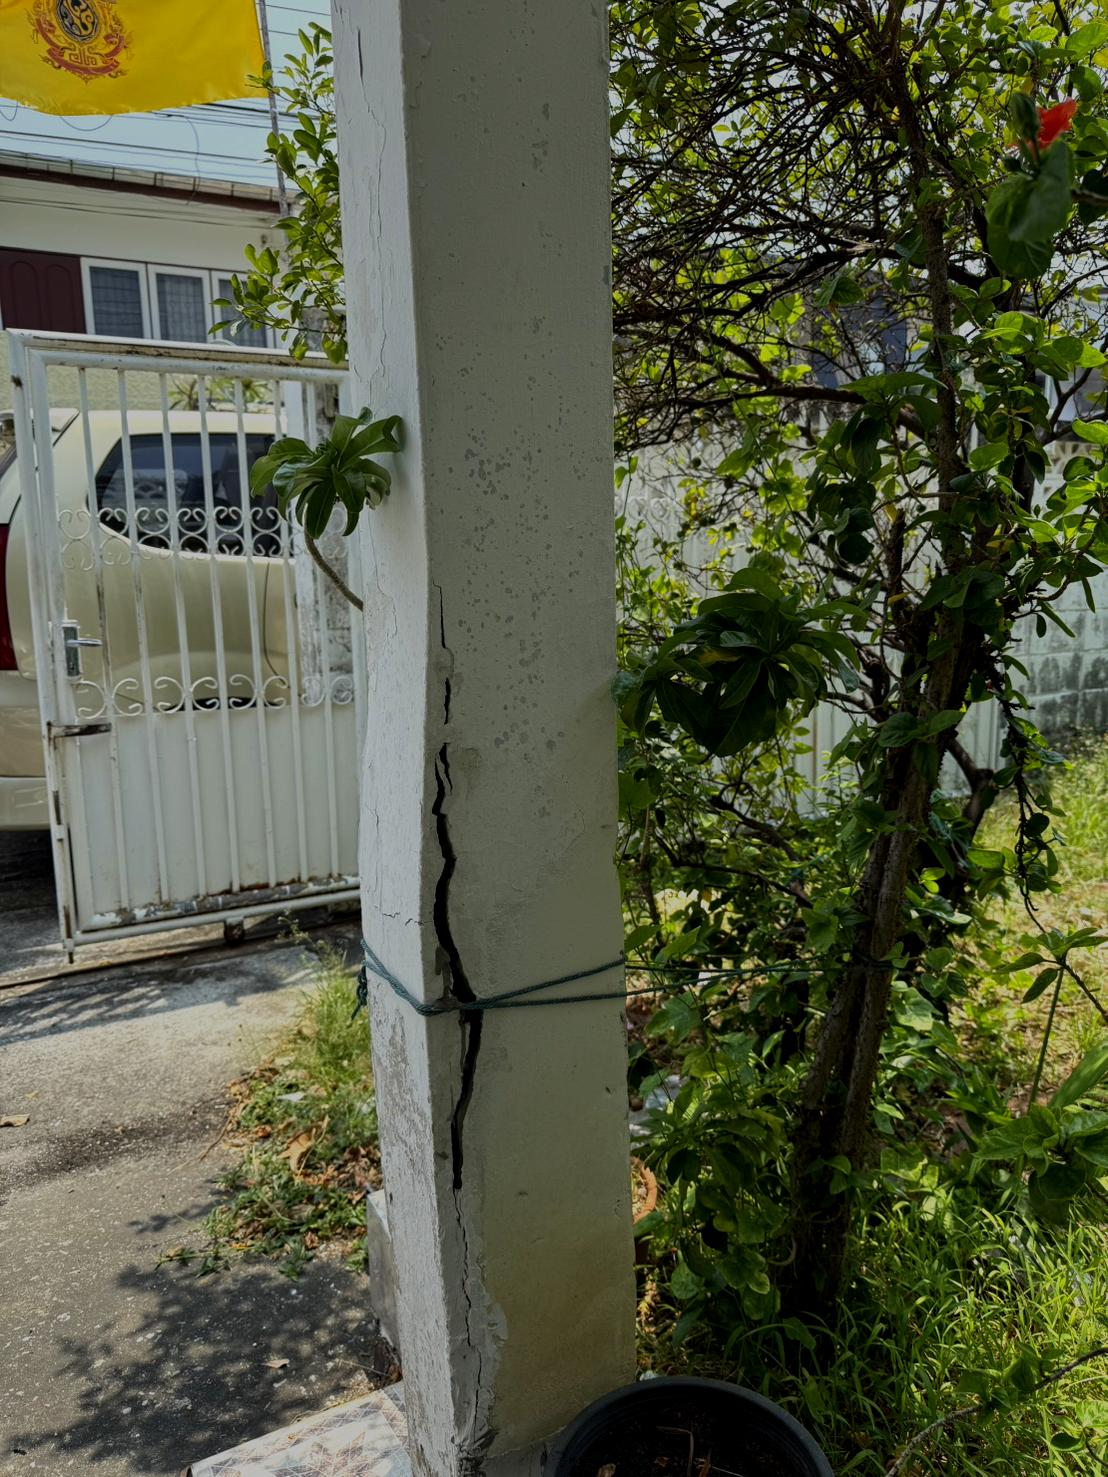High: (348, 578, 544, 1462)
